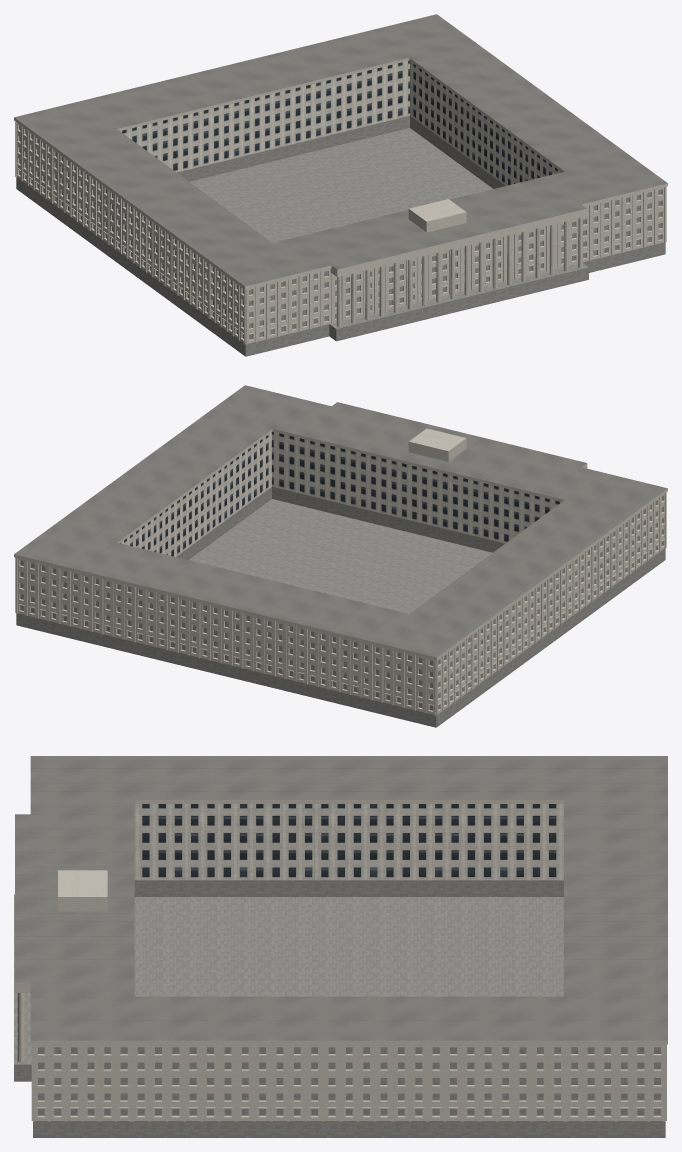
File: russell_senate.glb
The picture shows the model from 3 angles, top to bottom: view 1: azimuth 30°, elevation 25°; view 2: azimuth 150°, elevation 25°; view 3: azimuth 270°, elevation 25°; orthographic projection. The views are drawn at different scales.
Visible parts, largest first — view 1: russell_senate; view 2: russell_senate; view 3: russell_senate.
Boxes of the visible parts, bbox=[...] form: russell_senate: bbox=[14, 14, 667, 356]; russell_senate: bbox=[14, 385, 667, 727]; russell_senate: bbox=[14, 756, 667, 1137].
Bounding box in the file's own units: 149 × 27.59 × 145.
Materials: 4 (4 with a texture image).
